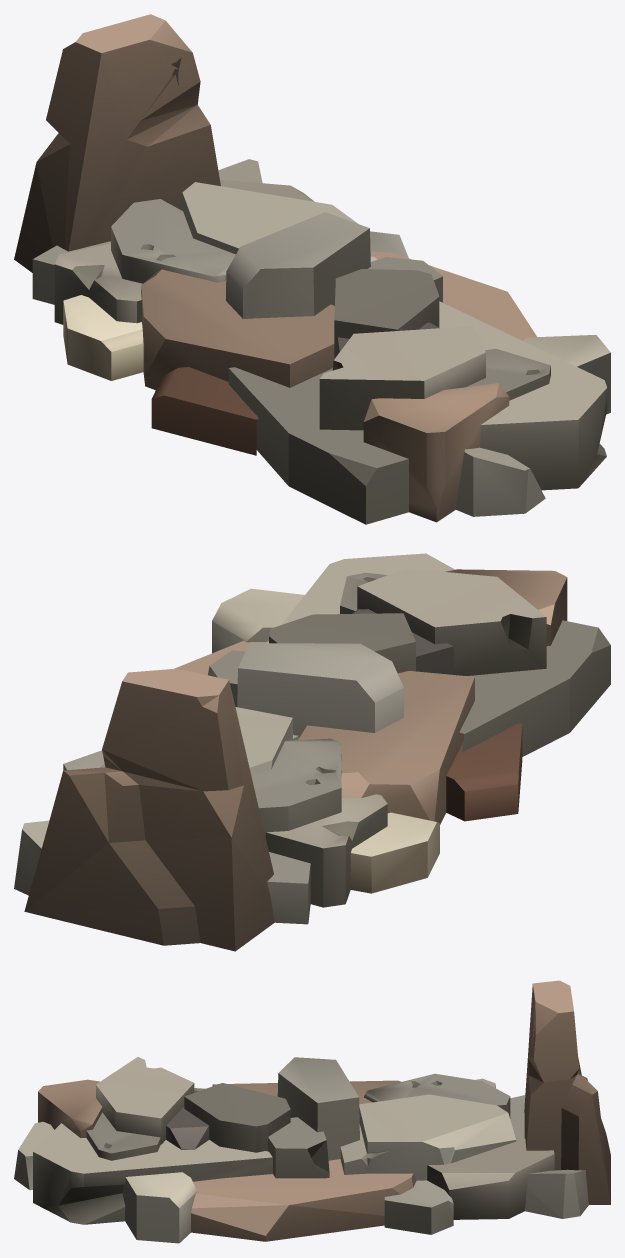
Rendered from Grave_1D.fbx.
3 renders of one model, top to bottom at view 1: azimuth 30°, elevation 25°; view 2: azimuth 150°, elevation 25°; view 3: azimuth 270°, elevation 25°, orthographic. The views are drawn at different scales.
Parts seen in each view (by area): view 1: Grave_1D; view 2: Grave_1D; view 3: Grave_1D.
Boxes of the visible parts, x1,y1,x2,y2 form: Grave_1D: (14, 14, 610, 524); Grave_1D: (14, 553, 610, 951); Grave_1D: (14, 980, 610, 1243).
Bounding box in the file's own units: 154 × 91.95 × 288.
